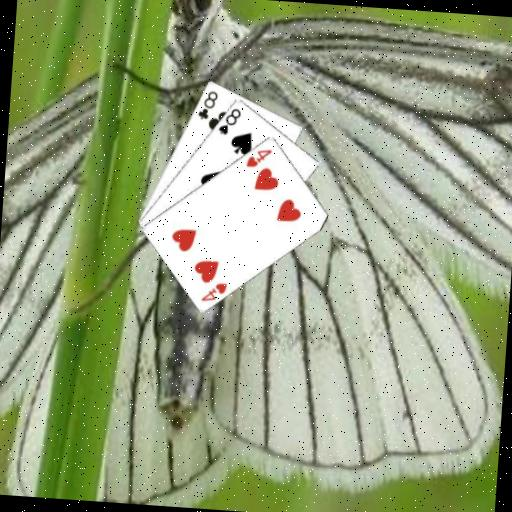4H: (243, 144, 274, 170), (198, 278, 229, 304)
8C: (194, 86, 220, 121)
8S: (215, 104, 244, 138)
